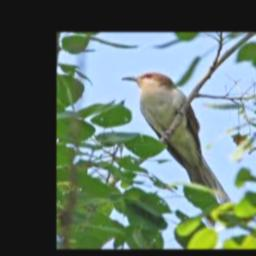Cuckoo: (121, 72, 230, 227)
